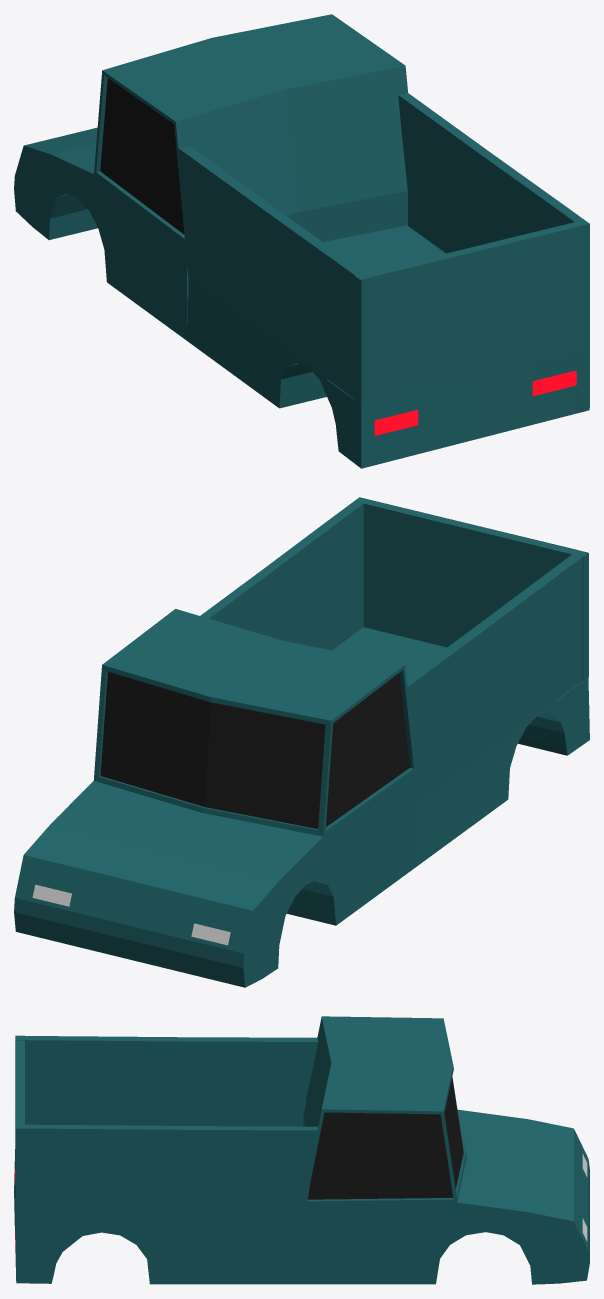
3 views of the same model, one above another, from view 1: azimuth 30°, elevation 25°; view 2: azimuth 150°, elevation 25°; view 3: azimuth 270°, elevation 25° (orthographic). The views are drawn at different scales.
Parts seen in each view (by area): view 1: Plane.035; view 2: Plane.035; view 3: Plane.035.
Boxes of the visible parts, x1,y1,x2,y2 form: Plane.035: (14, 14, 589, 468); Plane.035: (14, 497, 589, 987); Plane.035: (14, 1016, 589, 1284).
Size of the model in its own units: 177 by 156 by 463.
